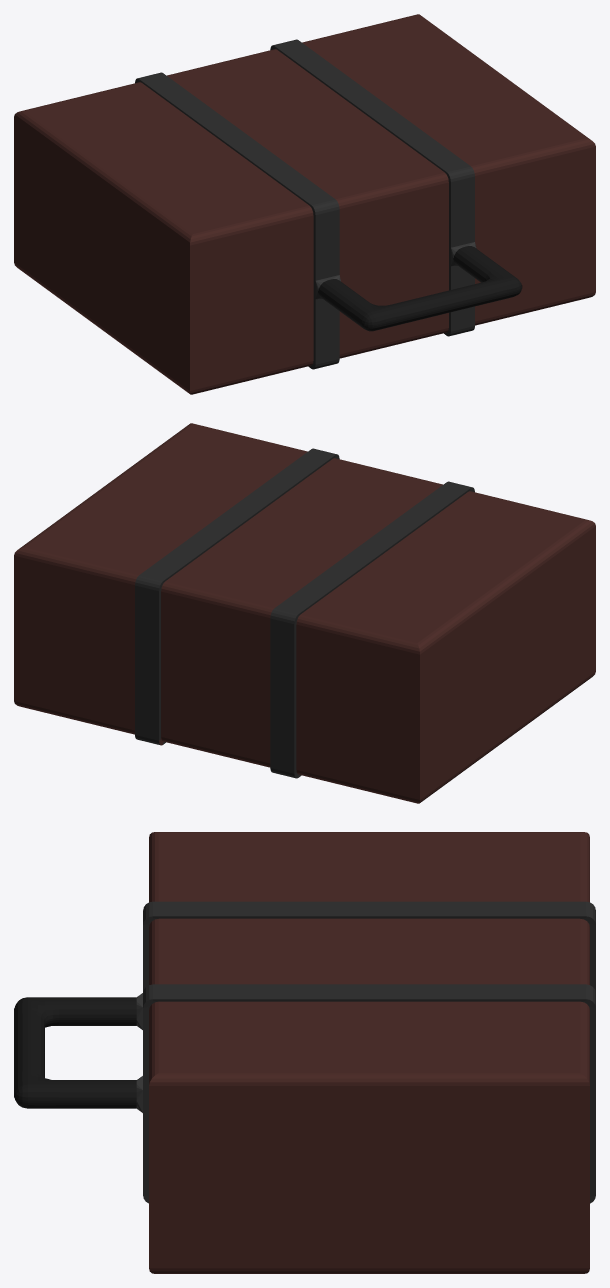
File: Briefcase.glb
3 renders of one model, top to bottom at view 1: azimuth 30°, elevation 25°; view 2: azimuth 150°, elevation 25°; view 3: azimuth 270°, elevation 25°, orthographic. The views are drawn at different scales.
Visible parts, largest first — view 1: Briefcase; view 2: Briefcase; view 3: Briefcase.
Boxes of the visible parts, x1=… form: Briefcase: x1=14, y1=14, x2=595, y2=394; Briefcase: x1=14, y1=423, x2=595, y2=803; Briefcase: x1=14, y1=832, x2=595, y2=1273.
Size of the model in its own units: 0.4 by 0.154 by 0.3959.
